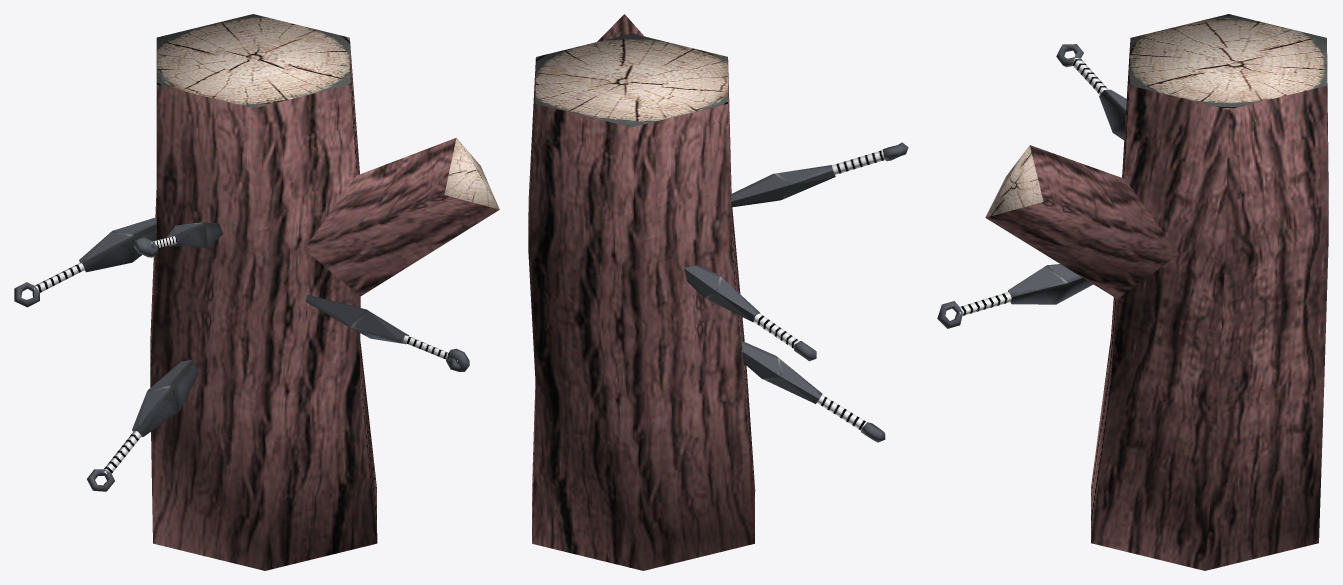
File: Kawarimi.FBX
3 views of the same model, side by side, from view 1: azimuth 30°, elevation 25°; view 2: azimuth 150°, elevation 25°; view 3: azimuth 270°, elevation 25° (orthographic). The views are drawn at different scales.
Visible parts, largest first — view 1: tishenmood jhxcom_20001, tishenmood jhxcom_20002; view 2: tishenmood jhxcom_20001, tishenmood jhxcom_20002; view 3: tishenmood jhxcom_20001, tishenmood jhxcom_20002.
Part boxes in pixels (box(x1,y1,x2,y2)): tishenmood jhxcom_20001: box(150, 14, 499, 570); tishenmood jhxcom_20002: box(14, 217, 469, 491); tishenmood jhxcom_20001: box(528, 14, 755, 570); tishenmood jhxcom_20002: box(684, 142, 908, 442); tishenmood jhxcom_20001: box(985, 14, 1328, 570); tishenmood jhxcom_20002: box(937, 44, 1126, 328).
Size of the model in its own units: 89.5 by 110 by 85.62.
Materials: 2 (2 with a texture image).
